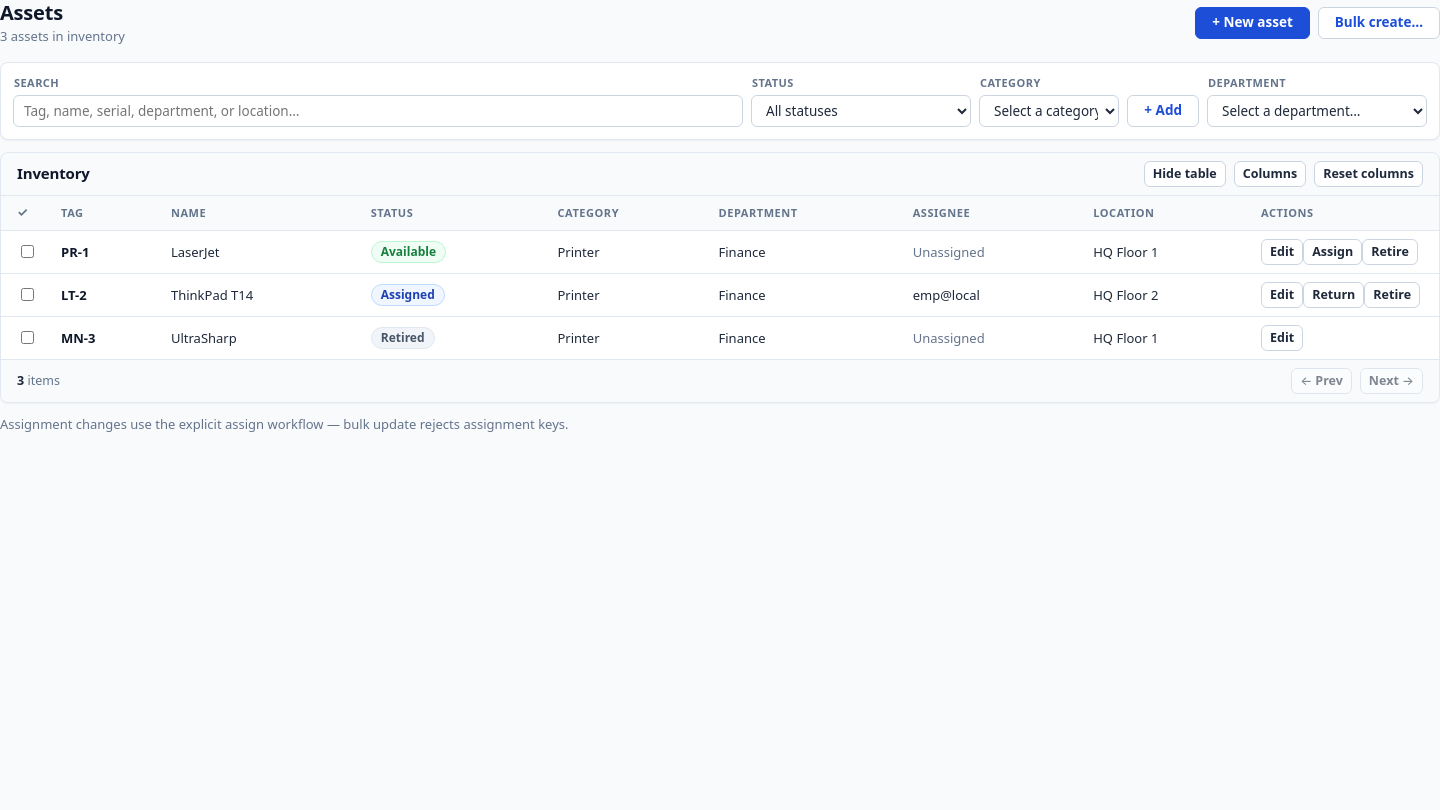
Test: Assets list row actions › surfaces a failed row action as an inline alert and closes its dialog
The width and height of the screenshot is (1440, 810).
Click the button with aria-label "Retire PR-1" at (1390, 252), box [1362,239,1418,265]
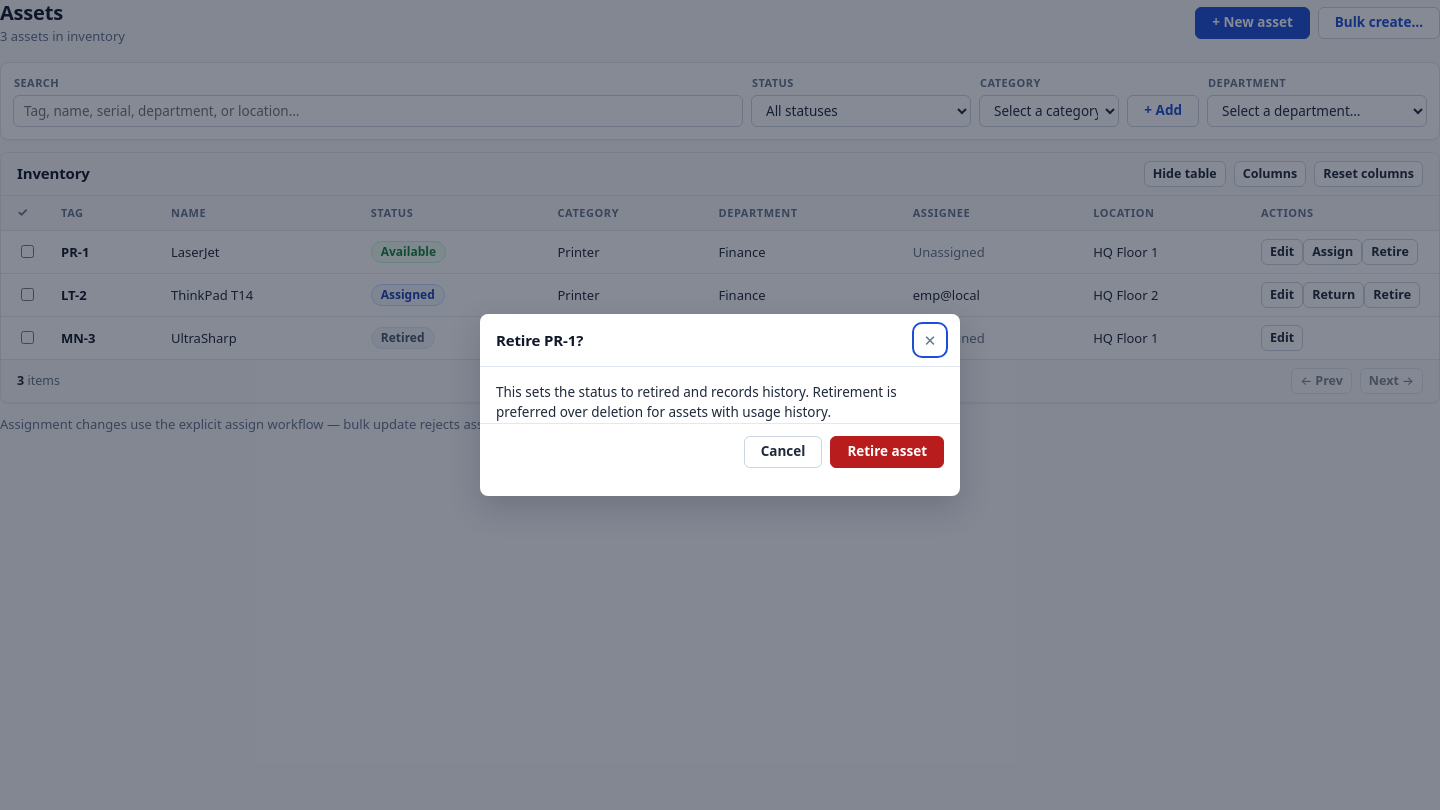
Click the button "Retire asset" at (887, 452), box [830,436,944,468]
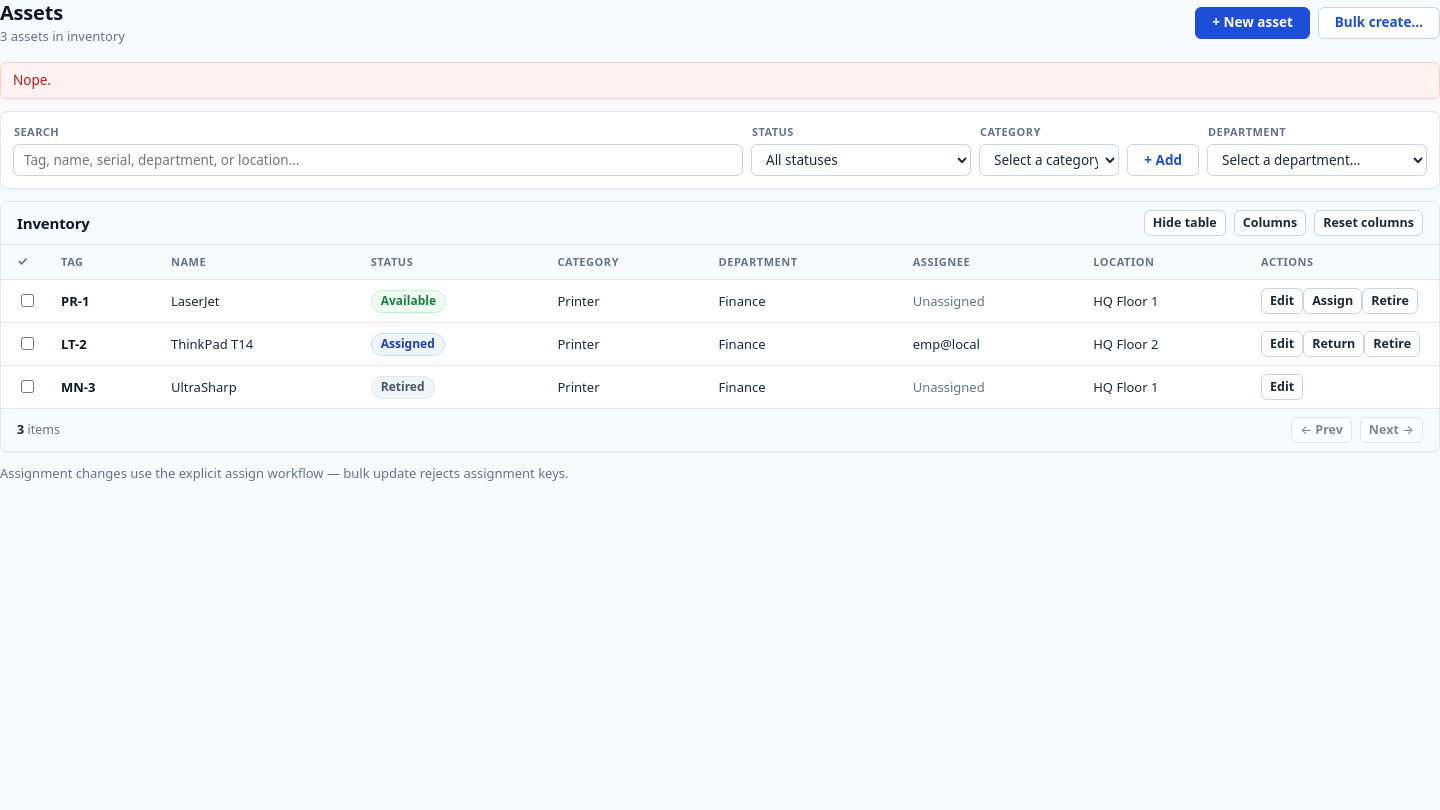
Result: the text "Nope." is shown at [0,62,1439,99]
